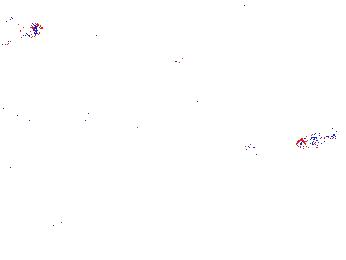red belly glassfish: (296, 131, 337, 151), (241, 137, 271, 156)
redtail glassfish: (64, 110, 146, 142), (1, 12, 44, 42), (109, 75, 152, 100), (168, 54, 202, 81)
